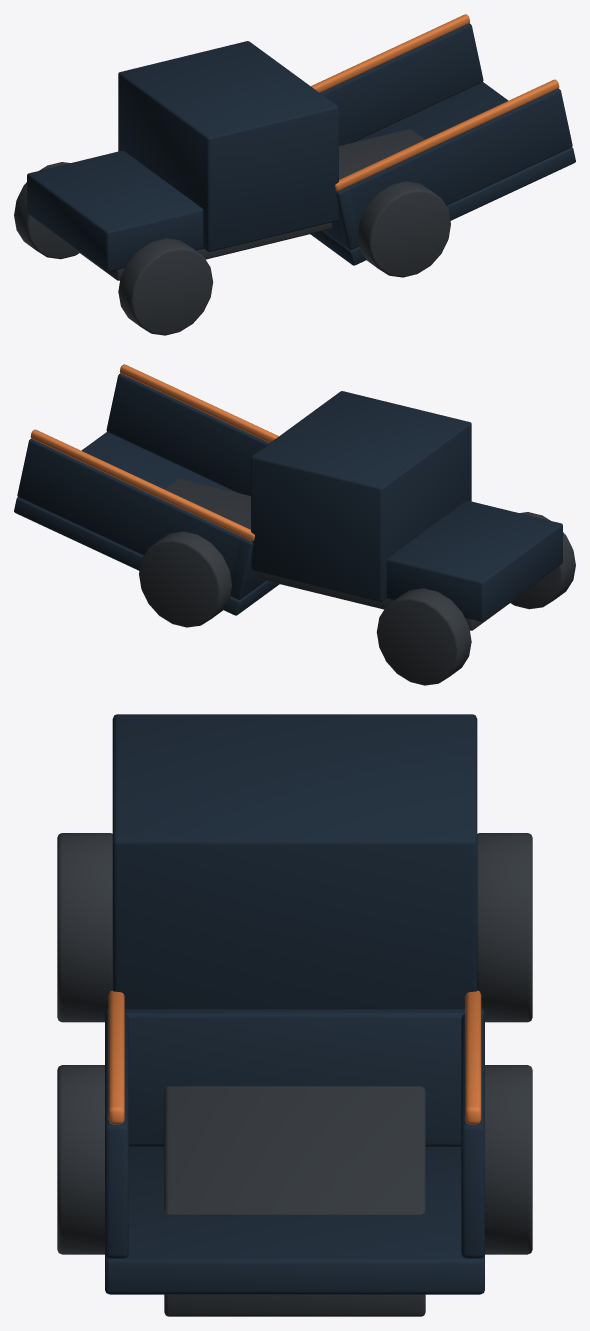
File: truck_v3.glb
3 views of the same model, one above another, from view 1: azimuth 30°, elevation 25°; view 2: azimuth 150°, elevation 25°; view 3: azimuth 270°, elevation 25° (orthographic). The views are drawn at different scales.
Parts seen in each view (by area): view 1: HerosTruckMark; view 2: HerosTruckMark; view 3: HerosTruckMark.
Boxes of the visible parts, <box> form: HerosTruckMark: <box>14,14,575,335</box>; HerosTruckMark: <box>14,364,575,685</box>; HerosTruckMark: <box>57,714,532,1316</box>.
Size of the model in its own units: 2.78 by 1 by 1.24.
